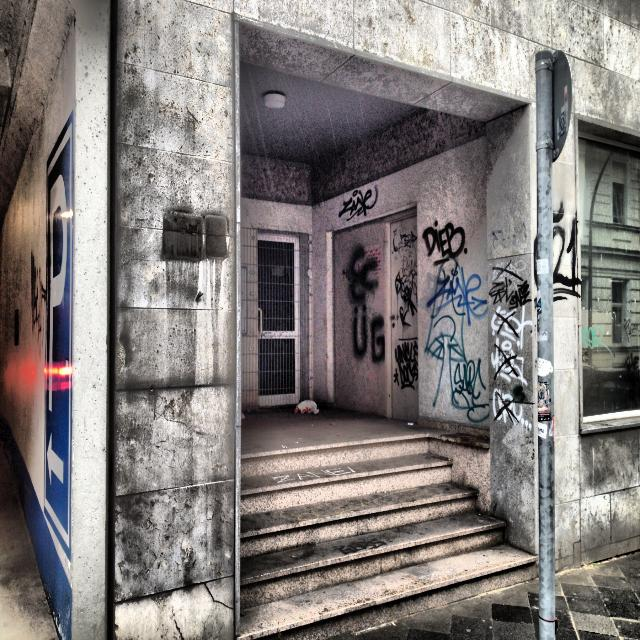escada: (240, 434, 536, 640)
